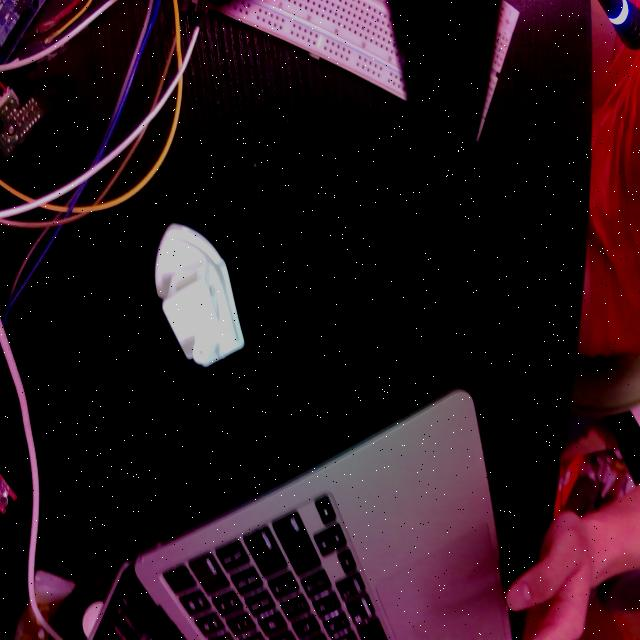ship: (148, 220, 252, 369)
